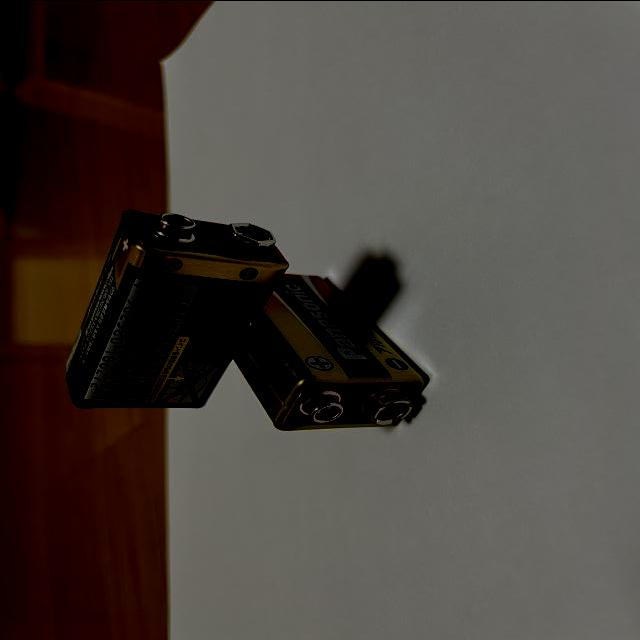9V: (64, 208, 289, 408), (230, 273, 429, 430)
